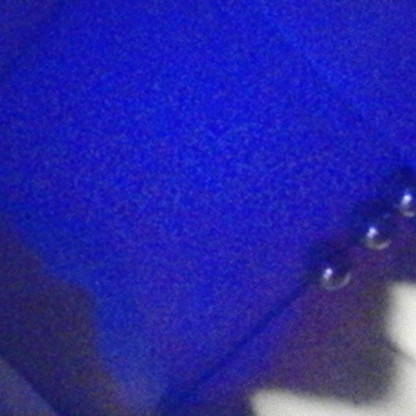ironball: (377, 165, 414, 225), (350, 205, 393, 250), (310, 245, 351, 289)
